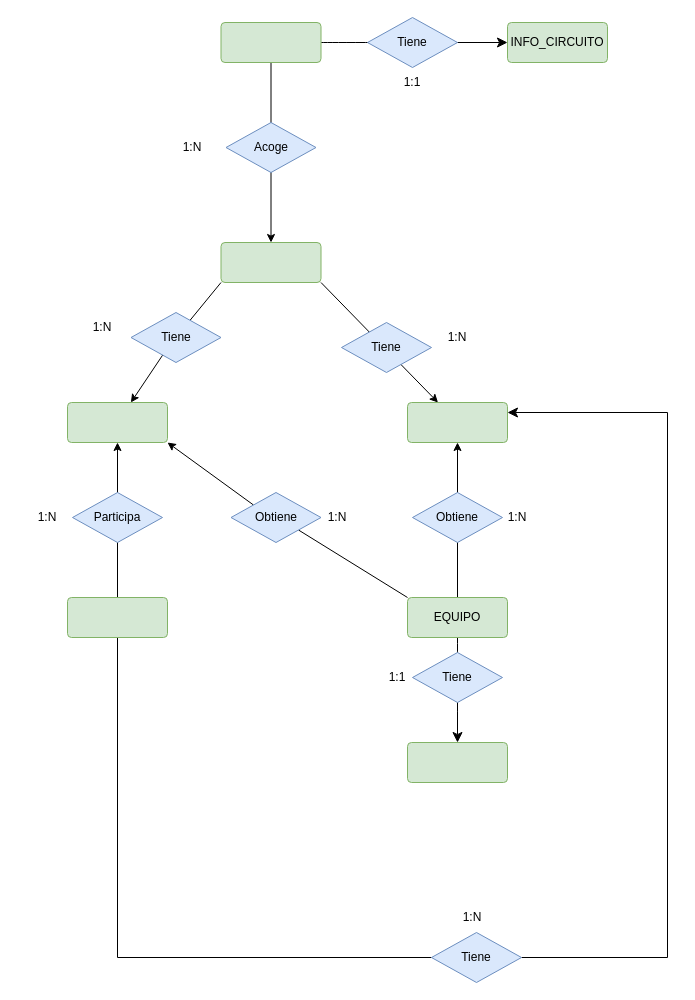
This 695x1000 diagram has some shape labels left out. The box of each missing label's shape, as (x1, y1, x2, y2) in pixels:
CARRERA: (220, 242, 321, 282)
CIRCUITO: (220, 22, 321, 62)
CLASIFICACIÓN: (66, 402, 168, 442)
INFO_EQUIPO: (406, 742, 508, 782)
PILOTO: (66, 596, 168, 638)
RESULTADO: (406, 402, 508, 442)
